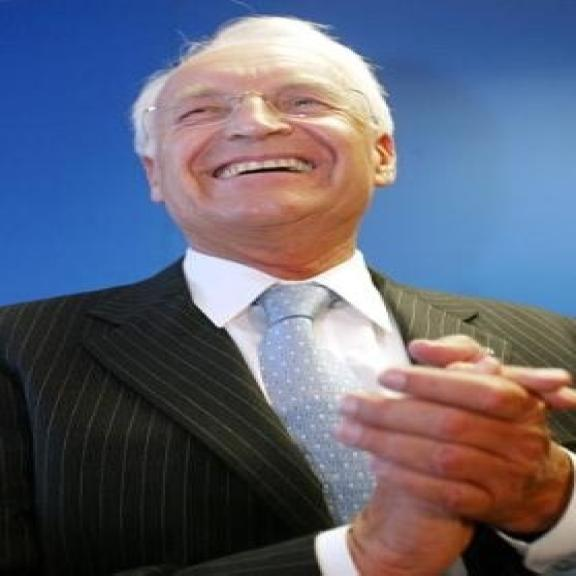face: (136, 35, 408, 245)
